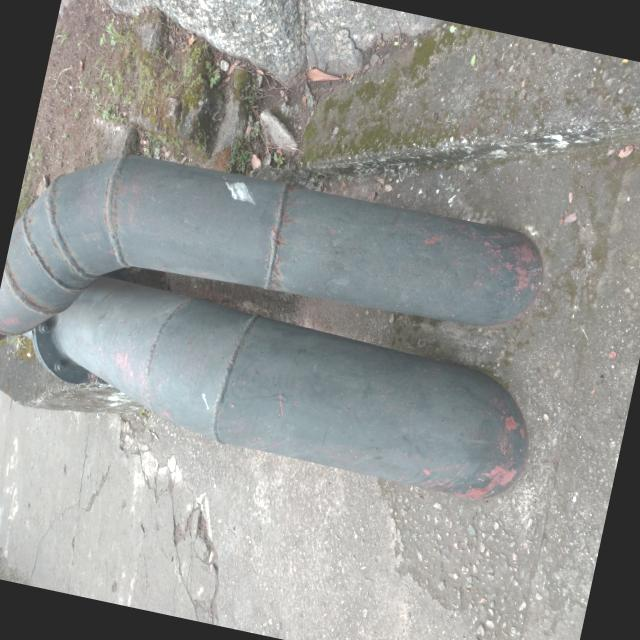gas: (12, 119, 553, 352), (52, 272, 534, 506)
